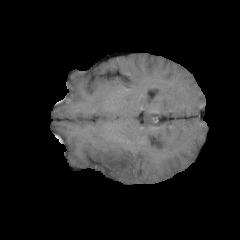glioma: (95, 143, 135, 179)
